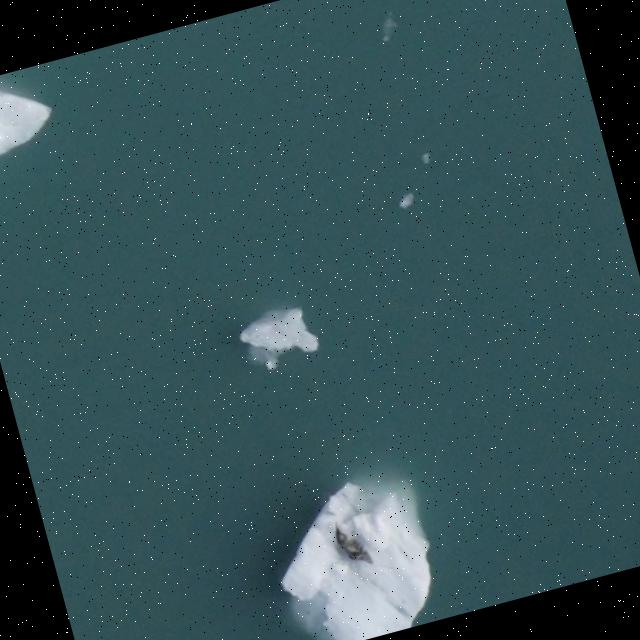seal: (327, 515, 372, 571)
